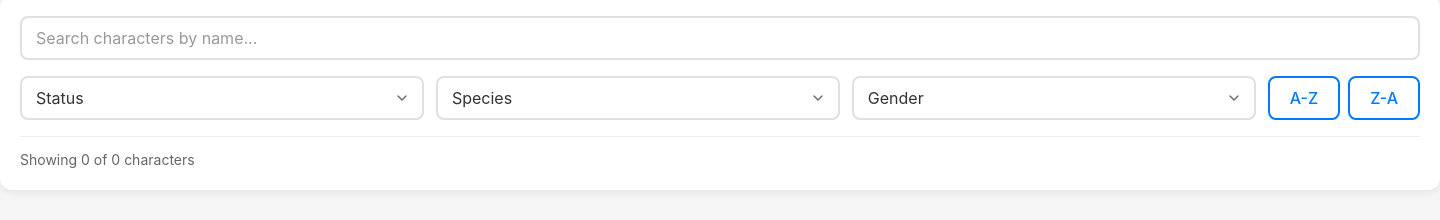
Test case: Filters › shows clear button only when filters are active
Check: the button "Clear Filters" is not shown
Type "rick" into the field with placeholder "Search characters by name...". click: [720, 38]
box: [20,16,1420,60]
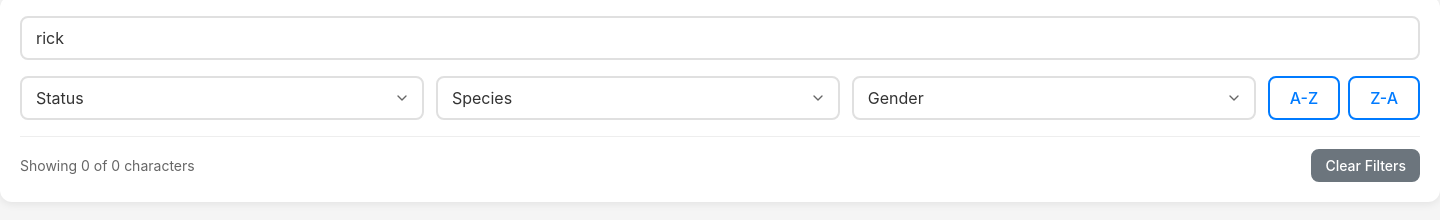
Check: the button "Clear Filters" is shown, box [1311,149,1420,182]
